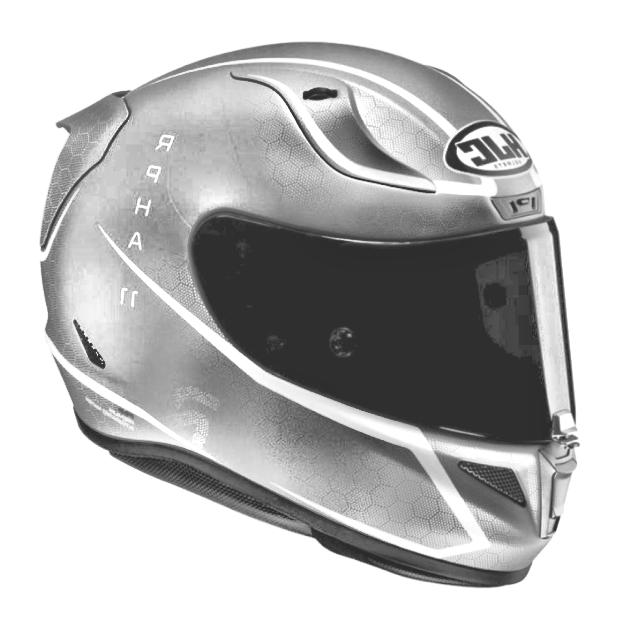Helmet: (22, 14, 581, 600)
